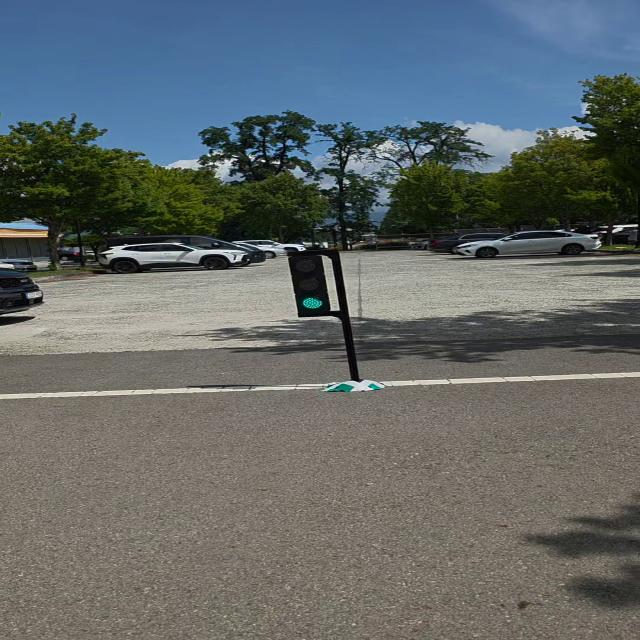green: (289, 248, 335, 318)
